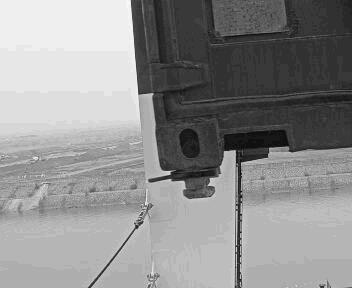twist_lock_1: (161, 162, 229, 210)
